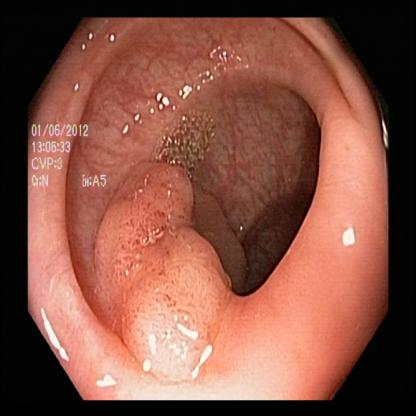Labels: (26, 125, 112, 190)
Polyps: (135, 254, 237, 376), (90, 168, 192, 278)
